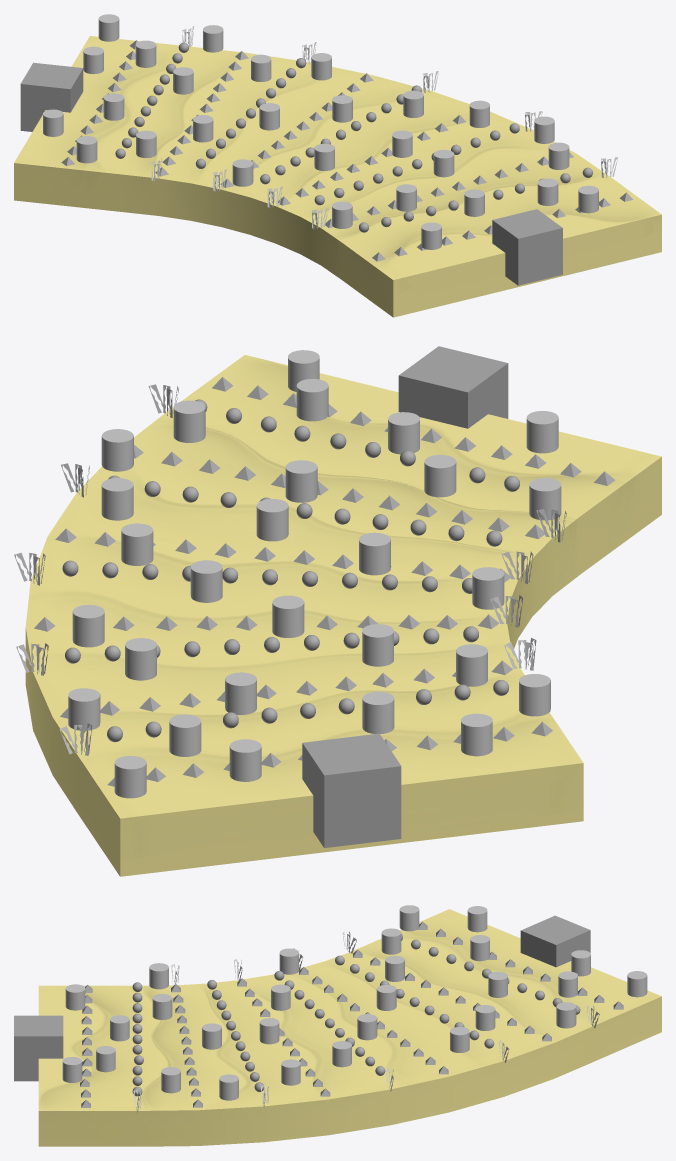
Rendered from assets007_Streckenteil_links001.fbx.
3 views of the same model, one above another, from view 1: azimuth 30°, elevation 25°; view 2: azimuth 150°, elevation 25°; view 3: azimuth 270°, elevation 25° (orthographic). The views are drawn at different scales.
Visible parts, largest first — view 1: streckenteil_linkskurve_geo1, a (×12), b (×10), startpoint, endpoint, c (×5), d; view 2: streckenteil_linkskurve_geo1, a (×12), b (×10), endpoint, startpoint, c (×5), d; view 3: streckenteil_linkskurve_geo1, a (×12), b (×10), startpoint, endpoint, c (×5), d.
Part boxes in pixels (left/top/right/bottom): streckenteil_linkskurve_geo1: left=14, top=36, right=661, bottom=317; a (×12): left=103, top=93, right=598, bottom=249; b (×10): left=43, top=25, right=489, bottom=186; startpoint: left=492, top=209, right=562, bottom=285; endpoint: left=20, top=62, right=83, bottom=131; c (×5): left=76, top=14, right=331, bottom=163; d: left=135, top=40, right=156, bottom=67; streckenteil_linkskurve_geo1: left=25, top=355, right=661, bottom=876; a (×12): left=101, top=350, right=561, bottom=733; b (×10): left=68, top=478, right=504, bottom=781; endpoint: left=302, top=733, right=401, bottom=847; startpoint: left=398, top=346, right=508, bottom=428; c (×5): left=72, top=604, right=550, bottom=798; d: left=169, top=714, right=201, bottom=756; streckenteil_linkskurve_geo1: left=38, top=909, right=661, bottom=1146; a (×12): left=62, top=928, right=489, bottom=1100; b (×10): left=259, top=906, right=590, bottom=1085; startpoint: left=14, top=1015, right=63, bottom=1081; endpoint: left=520, top=915, right=590, bottom=967; c (×5): left=385, top=905, right=647, bottom=1052; d: left=558, top=971, right=577, bottom=997.
Size of the model in its own units: 49.37 by 6.68 by 65.57.
